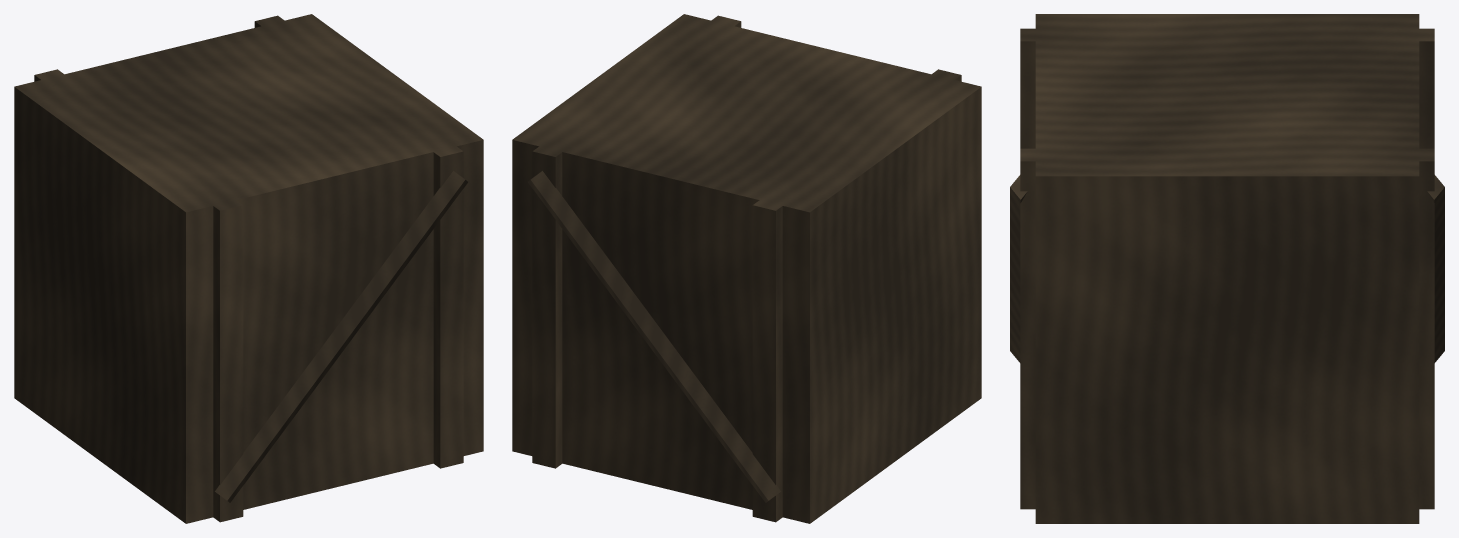
File: Crate_Large.glb
3 views of the same model, side by side, from view 1: azimuth 30°, elevation 25°; view 2: azimuth 150°, elevation 25°; view 3: azimuth 270°, elevation 25° (orthographic). The views are drawn at different scales.
Visible parts, largest first — view 1: Crate_Large; view 2: Crate_Large; view 3: Crate_Large.
Boxes of the visible parts, left/top/right/bottom form: Crate_Large: left=14, top=14, right=483, bottom=523; Crate_Large: left=512, top=14, right=981, bottom=523; Crate_Large: left=1010, top=14, right=1444, bottom=523.
Bounding box in the file's own units: 0.9 × 0.9 × 1.02.
1 material, 1 textured.
